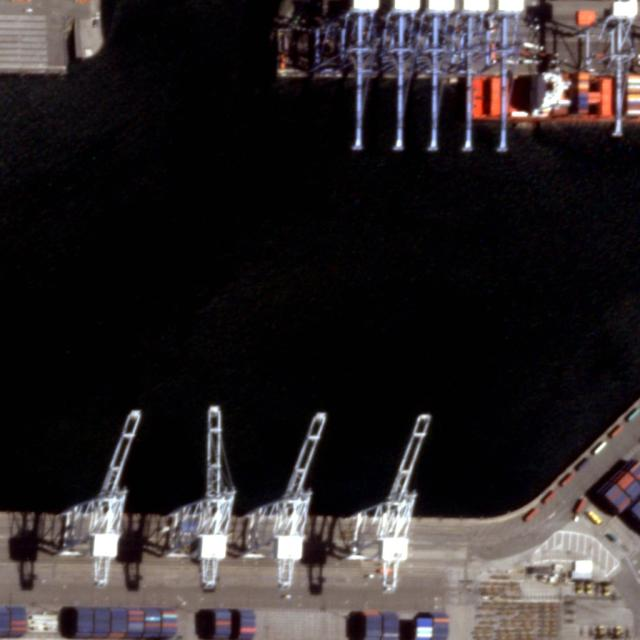crane: (96, 413, 128, 587)
